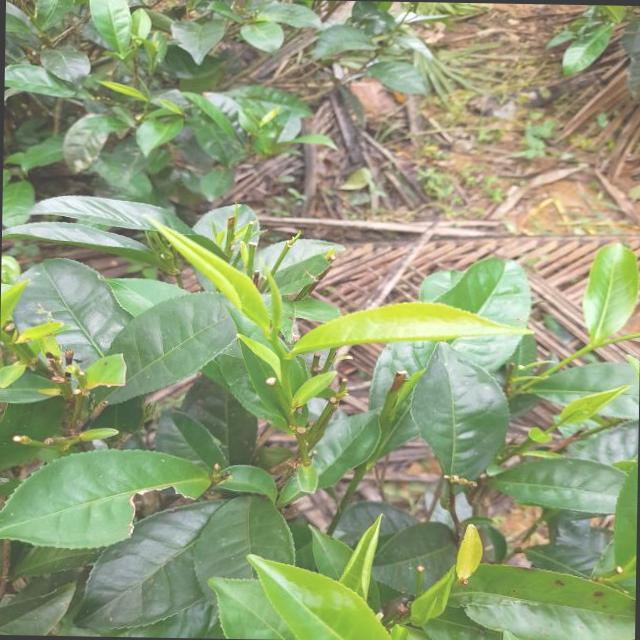Stem: (281, 359, 290, 372)
